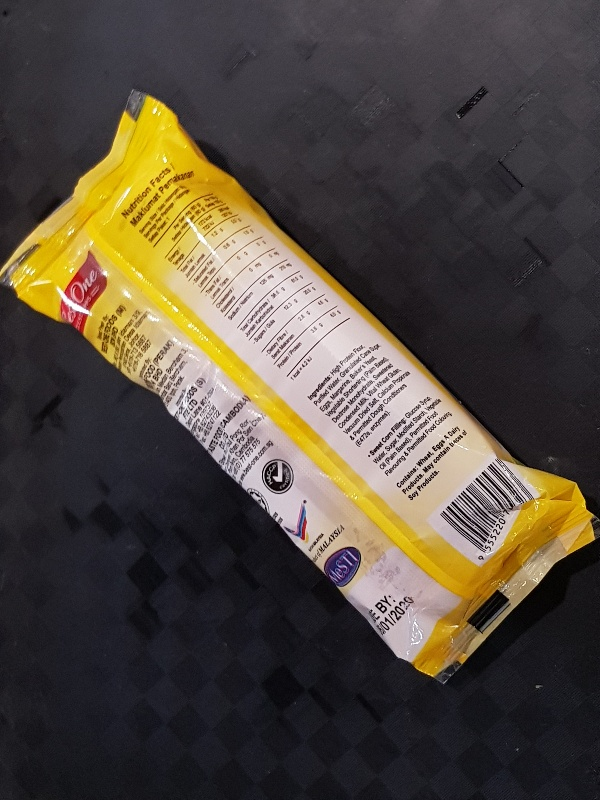Tinges Roll Sweet Corn: (1, 89, 600, 687)
